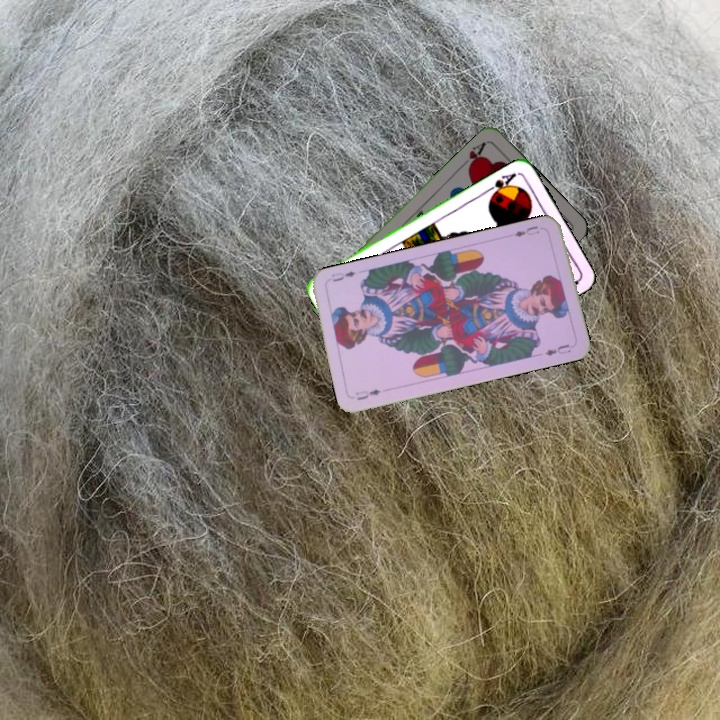EU: (510, 222, 542, 240), (352, 385, 383, 403)
HA: (457, 137, 489, 174)
SA: (483, 169, 519, 200)
